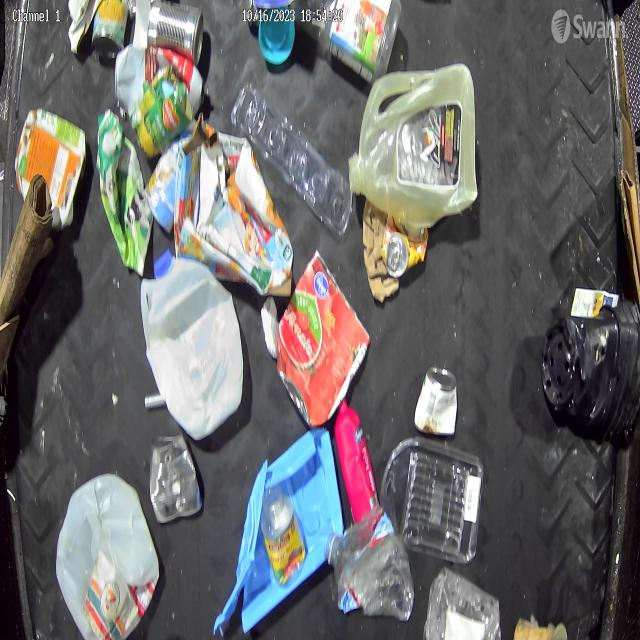can: (276, 249, 371, 428), (136, 66, 192, 160), (149, 432, 204, 525), (147, 0, 205, 67), (413, 366, 459, 436), (381, 220, 428, 276), (92, 0, 129, 60)
milk_jug: (349, 62, 478, 223), (141, 248, 243, 442), (56, 473, 160, 640)
non_white_jug: (173, 113, 293, 291), (98, 108, 154, 275)
